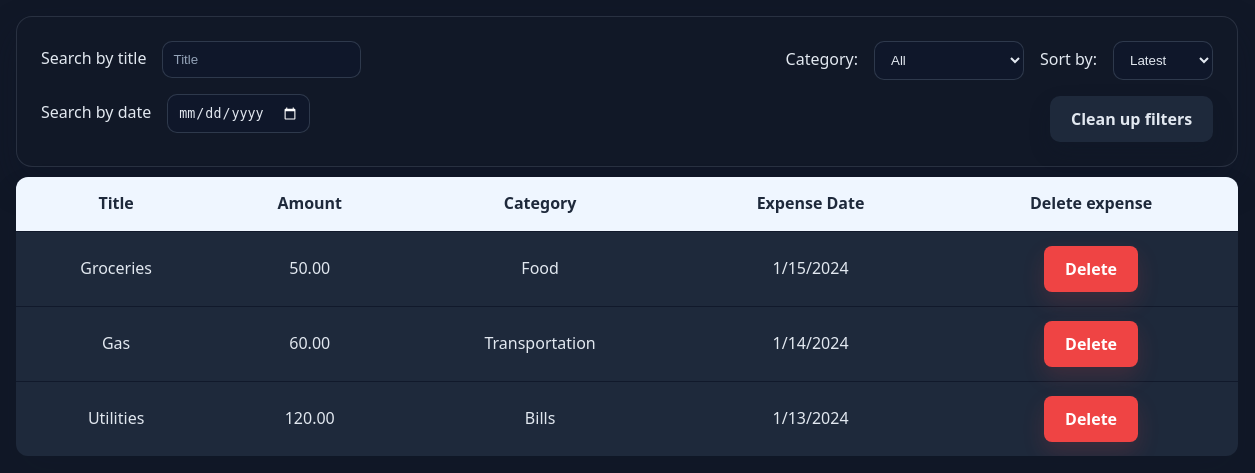
Test: ExpensesView Component › should filter expenses by category
Select "food" in the dropdown showing "All" at (949, 60), box [874, 41, 1024, 80]
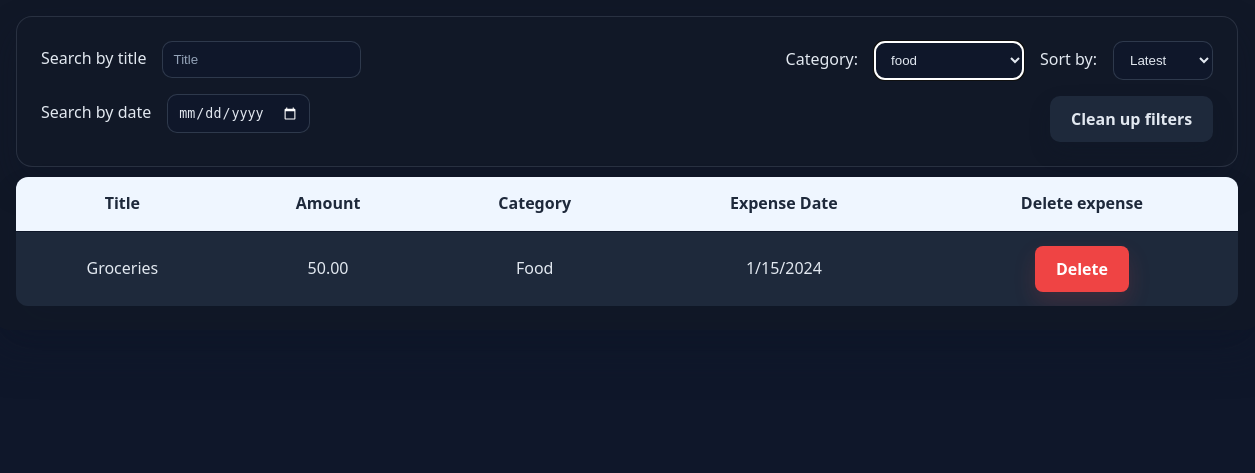
Check: the number of rows is 2, box [16, 177, 1238, 231]; [16, 231, 1238, 306]
